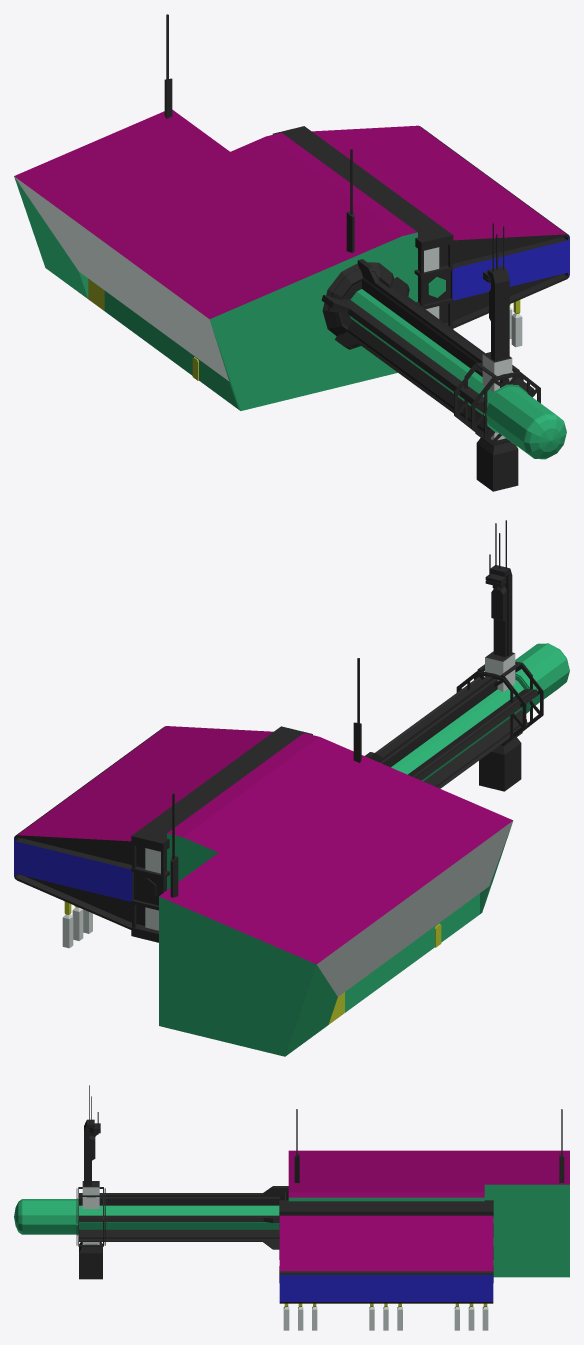
Rendered from medium_complex.fbx.
3 views of the same model, one above another, from view 1: azimuth 30°, elevation 25°; view 2: azimuth 150°, elevation 25°; view 3: azimuth 270°, elevation 25° (orthographic). The views are drawn at different scales.
Parts seen in each view (by area): view 1: Cube.141; view 2: Cube.141; view 3: Cube.141.
Part boxes in pixels (x1,y1,x2,y2): Cube.141: [14, 14, 569, 491]; Cube.141: [14, 520, 569, 1056]; Cube.141: [14, 1085, 569, 1330].
Size of the model in its own units: 34.45 by 24.25 by 65.1.
